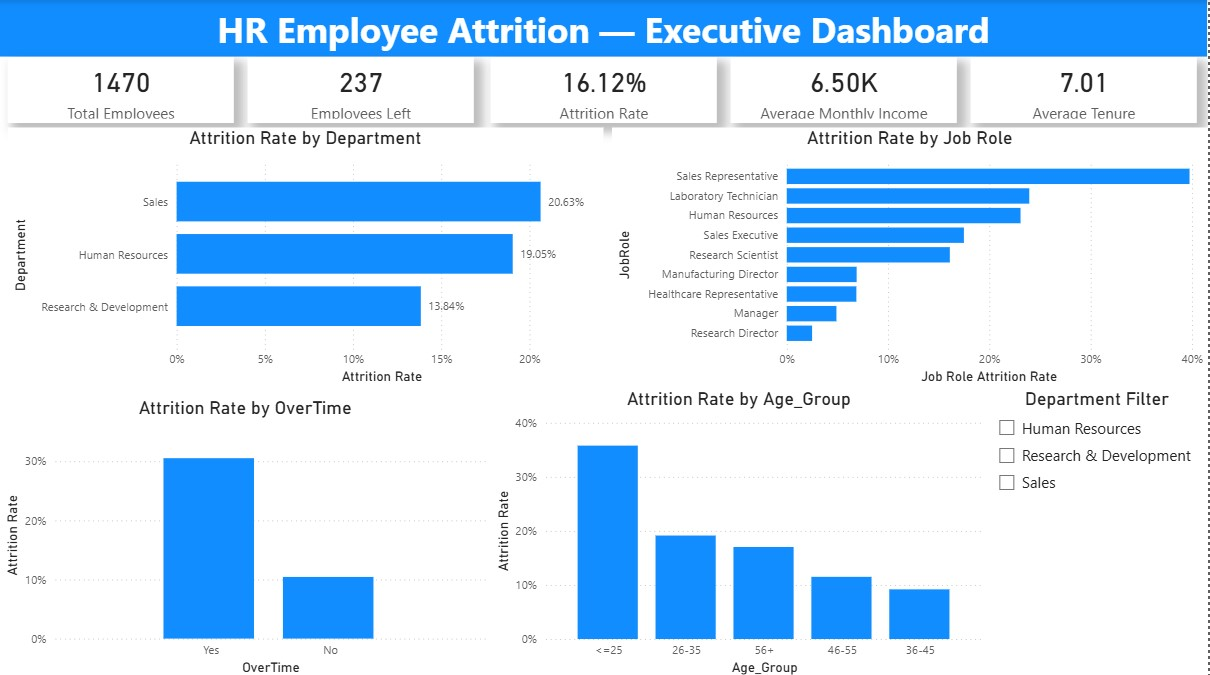

The dashboard page shown, as its layout file describes it:
{"tool":"powerbi","page":{"name":"HR Executive Dashboard","canvas":[1280,720],"ordinal":0},"visuals":[{"type":"textbox","box":[0,0,1280,60],"z":0},{"type":"card","fields":{"Values":["project8_hr_employee_attrition_cleaned.Total Employees"]},"box":[8.3,60,240,70],"z":1000},{"type":"card","fields":{"Values":["project8_hr_employee_attrition_cleaned.Employees Left"]},"box":[261.7,60,240,70],"z":2000},{"type":"card","fields":{"Values":["project8_hr_employee_attrition_cleaned.Attrition Rate"]},"box":[520,60,240,70],"z":3000},{"type":"card","fields":{"Values":["project8_hr_employee_attrition_cleaned.Average Monthly Income"]},"box":[775,60,240,70],"z":4000},{"type":"card","fields":{"Values":["project8_hr_employee_attrition_cleaned.Average Tenure"]},"box":[1028.3,60,240,70],"z":5000},{"type":"clusteredBarChart","fields":{"Category":["project8_hr_employee_attrition_cleaned.Department"],"Y":["project8_hr_employee_attrition_cleaned.Attrition Rate"]},"box":[8.3,135,631.7,276.7],"z":6000},{"type":"barChart","title":"Attrition Rate by Job Role","fields":{"Category":["project8_hr_employee_attrition_cleaned.JobRole"],"Y":["project8_hr_employee_attrition_cleaned.Job Role Attrition Rate"]},"box":[648.3,135,631.7,276.7],"z":7000},{"type":"columnChart","fields":{"Category":["project8_hr_employee_attrition_cleaned.OverTime"],"Y":["project8_hr_employee_attrition_cleaned.Attrition Rate"]},"box":[0,421.7,520,298.3],"z":8000},{"type":"columnChart","fields":{"Category":["project8_hr_employee_attrition_cleaned.Age_Group"],"Y":["project8_hr_employee_attrition_cleaned.Attrition Rate"]},"box":[520,411.7,526.7,308.3],"z":9000},{"type":"slicer","title":"Department Filter","fields":{"Values":["project8_hr_employee_attrition_cleaned.Department"]},"box":[1046.7,411.7,233.3,308.3],"z":10000}]}

Visuals, with their boxes in screenshot pixels (x1, y1, x2, y2), scaled from the page's 1280x720 canvas onto the 1210x675 screenshot:
textbox: (0, 0, 1209, 56)
card - project8_hr_employee_attrition_cleaned.Total Employees: (8, 56, 235, 122)
card - project8_hr_employee_attrition_cleaned.Employees Left: (247, 56, 474, 122)
card - project8_hr_employee_attrition_cleaned.Attrition Rate: (492, 56, 718, 122)
card - project8_hr_employee_attrition_cleaned.Average Monthly Income: (733, 56, 959, 122)
card - project8_hr_employee_attrition_cleaned.Average Tenure: (972, 56, 1199, 122)
clusteredBarChart - project8_hr_employee_attrition_cleaned.Department x project8_hr_employee_attrition_cleaned.Attrition Rate: (8, 127, 605, 386)
"Attrition Rate by Job Role" barChart: (613, 127, 1209, 386)
columnChart - project8_hr_employee_attrition_cleaned.OverTime x project8_hr_employee_attrition_cleaned.Attrition Rate: (0, 395, 492, 674)
columnChart - project8_hr_employee_attrition_cleaned.Age_Group x project8_hr_employee_attrition_cleaned.Attrition Rate: (492, 386, 989, 674)
"Department Filter" slicer: (989, 386, 1209, 674)
